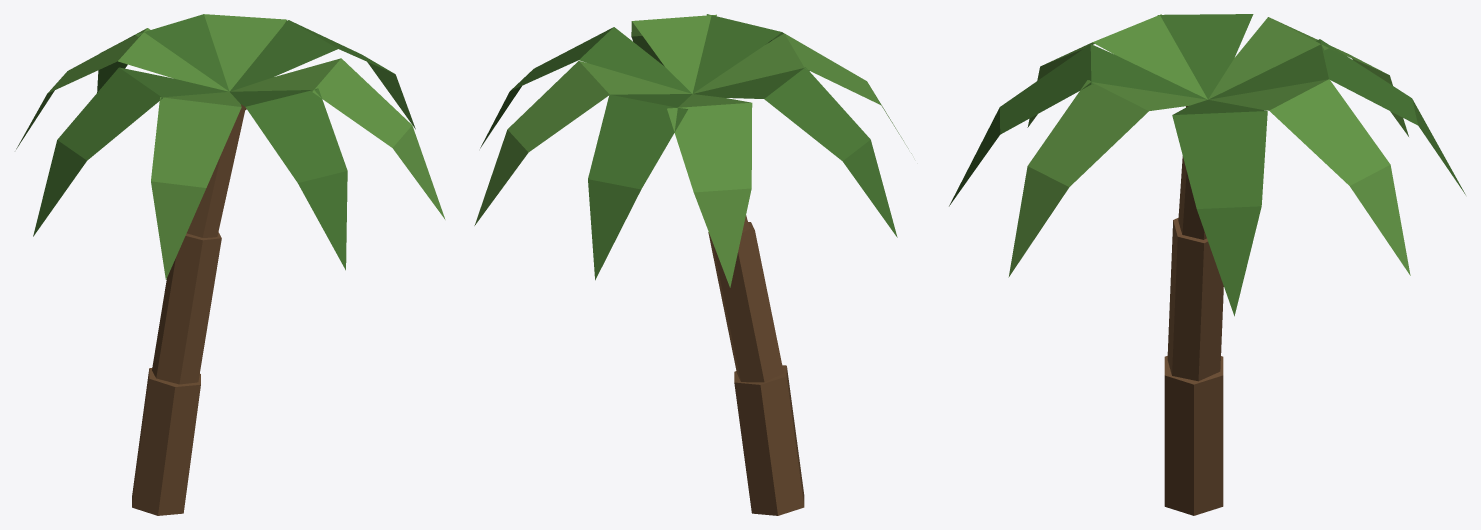
File: palm.glb
The picture shows the model from 3 angles, left to right: view 1: azimuth 30°, elevation 25°; view 2: azimuth 150°, elevation 25°; view 3: azimuth 270°, elevation 25°; orthographic projection. The views are drawn at different scales.
Parts seen in each view (by area): view 1: part.008, part.009, part.007, part, part.001, part.010, part.003, part.006, part.004, part.005, part.002; view 2: part.006, part.005, part, part.007, part.004, part.001, part.003, part.008, part.010, part.009; view 3: part.003, part.010, part.004, part, part.001, part.009, part.005, part.007, part.008, part.006, part.002.
Part boxes in pixels (bbox=[...]): part.008: bbox=[151, 92, 241, 279]; part.009: bbox=[230, 88, 347, 270]; part.007: bbox=[33, 67, 228, 236]; part: bbox=[132, 368, 200, 515]; part.001: bbox=[152, 232, 221, 384]; part.010: bbox=[231, 58, 445, 219]; part.003: bbox=[230, 20, 415, 129]; part.006: bbox=[16, 28, 228, 149]; part.004: bbox=[204, 14, 287, 91]; part.005: bbox=[97, 14, 229, 92]; part.002: bbox=[187, 104, 245, 237]; part.006: bbox=[667, 94, 752, 287]; part.005: bbox=[588, 94, 691, 280]; part: bbox=[734, 365, 804, 515]; part.007: bbox=[693, 67, 897, 237]; part.004: bbox=[474, 61, 691, 225]; part.001: bbox=[708, 222, 783, 382]; part.003: bbox=[480, 27, 691, 148]; part.008: bbox=[693, 33, 911, 153]; part.010: bbox=[631, 14, 716, 93]; part.009: bbox=[692, 14, 809, 93]; part.003: bbox=[1172, 100, 1267, 316]; part.010: bbox=[1008, 80, 1207, 277]; part.004: bbox=[1208, 79, 1410, 275]; part: bbox=[1164, 356, 1223, 515]; part.001: bbox=[1167, 217, 1223, 381]; part.009: bbox=[949, 44, 1207, 206]; part.005: bbox=[1209, 39, 1465, 194]; part.007: bbox=[1157, 14, 1253, 99]; part.008: bbox=[1027, 14, 1207, 127]; part.006: bbox=[1208, 17, 1408, 136]; part.002: bbox=[1178, 106, 1206, 239].
Bounding box in the file's own units: 1.83 × 1.88 × 1.84.
